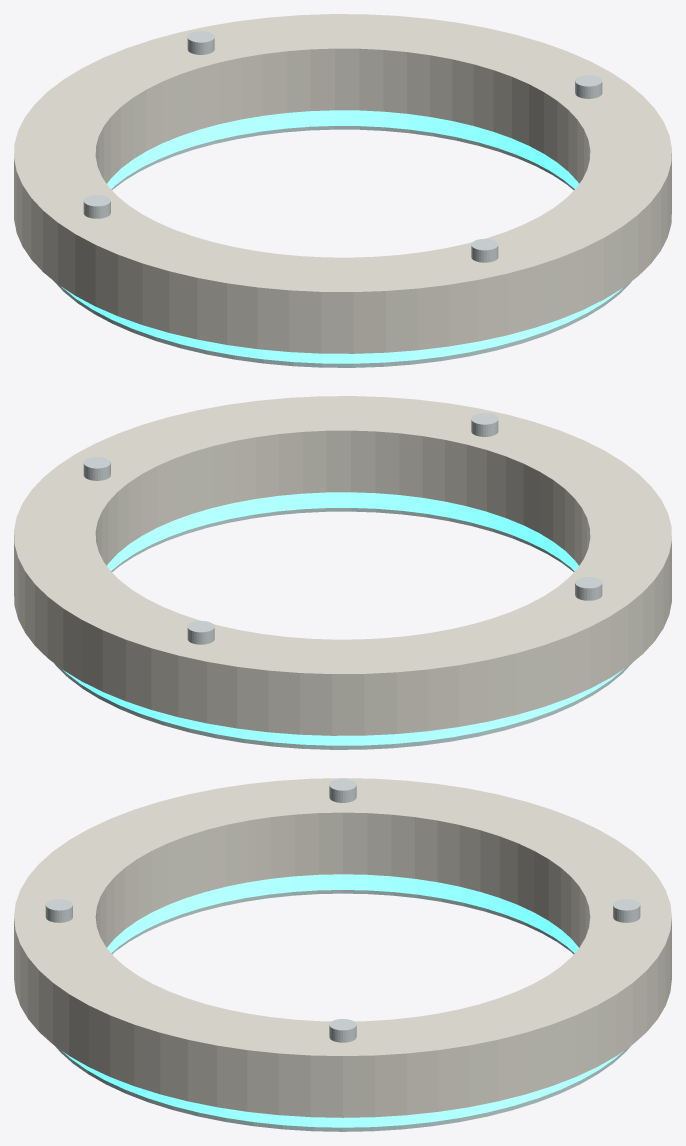
The model's file is s7-lc1-g01-satellite-ring.glb.
3 views of the same model, one above another, from view 1: azimuth 30°, elevation 25°; view 2: azimuth 150°, elevation 25°; view 3: azimuth 270°, elevation 25° (orthographic).
Visible parts, largest first — view 1: 000_G01_small_ring_cream_housing, 001_G01_small_ring_circumference_led_emitter, 002_G01_small_ring_diffuser, 006_G01_small_ring_suspension_eye, 003_G01_small_ring_suspension_eye, 004_G01_small_ring_suspension_eye, 005_G01_small_ring_suspension_eye; view 2: 000_G01_small_ring_cream_housing, 001_G01_small_ring_circumference_led_emitter, 002_G01_small_ring_diffuser, 004_G01_small_ring_suspension_eye, 003_G01_small_ring_suspension_eye, 006_G01_small_ring_suspension_eye, 005_G01_small_ring_suspension_eye; view 3: 000_G01_small_ring_cream_housing, 001_G01_small_ring_circumference_led_emitter, 002_G01_small_ring_diffuser, 005_G01_small_ring_suspension_eye, 003_G01_small_ring_suspension_eye, 004_G01_small_ring_suspension_eye, 006_G01_small_ring_suspension_eye.
Boxes of the visible parts, left/top/right/bottom form: 000_G01_small_ring_cream_housing: left=14, top=14, right=671, bottom=353; 001_G01_small_ring_circumference_led_emitter: left=62, top=110, right=622, bottom=363; 002_G01_small_ring_diffuser: left=53, top=126, right=631, bottom=367; 006_G01_small_ring_suspension_eye: left=187, top=31, right=214, bottom=54; 003_G01_small_ring_suspension_eye: left=575, top=75, right=602, bottom=98; 004_G01_small_ring_suspension_eye: left=471, top=239, right=498, bottom=262; 005_G01_small_ring_suspension_eye: left=83, top=195, right=110, bottom=218; 000_G01_small_ring_cream_housing: left=14, top=396, right=671, bottom=735; 001_G01_small_ring_circumference_led_emitter: left=63, top=492, right=623, bottom=745; 002_G01_small_ring_diffuser: left=54, top=508, right=632, bottom=749; 004_G01_small_ring_suspension_eye: left=471, top=413, right=498, bottom=436; 003_G01_small_ring_suspension_eye: left=83, top=457, right=110, bottom=480; 006_G01_small_ring_suspension_eye: left=187, top=621, right=214, bottom=644; 005_G01_small_ring_suspension_eye: left=575, top=577, right=602, bottom=600; 000_G01_small_ring_cream_housing: left=14, top=778, right=671, bottom=1117; 001_G01_small_ring_circumference_led_emitter: left=62, top=874, right=623, bottom=1127; 002_G01_small_ring_diffuser: left=55, top=890, right=630, bottom=1131; 005_G01_small_ring_suspension_eye: left=329, top=779, right=356, bottom=802; 003_G01_small_ring_suspension_eye: left=329, top=1019, right=356, bottom=1042; 004_G01_small_ring_suspension_eye: left=45, top=899, right=72, bottom=922; 006_G01_small_ring_suspension_eye: left=613, top=899, right=640, bottom=922.
Size of the model in its own units: 0.58 by 0.095 by 0.58.
